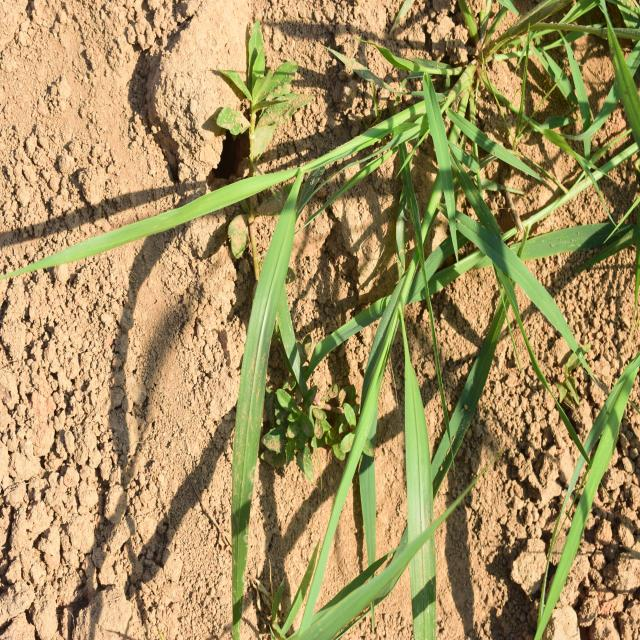green_foxtail: (154, 86, 502, 570)
